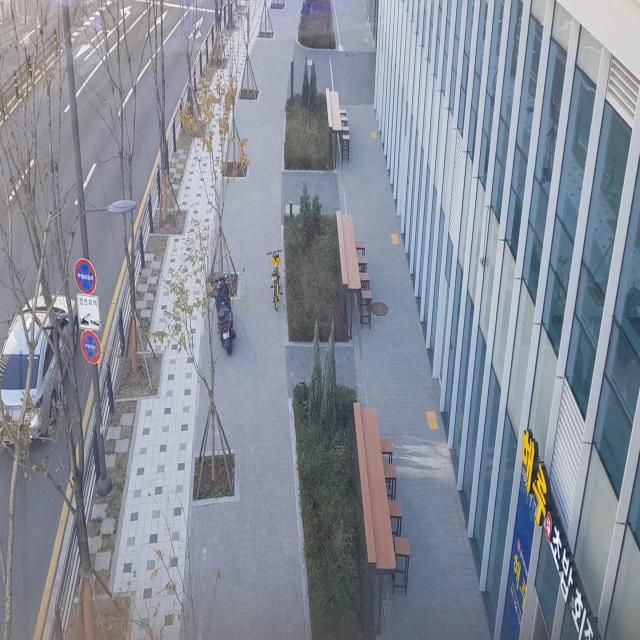Car: (0, 263, 89, 473)
